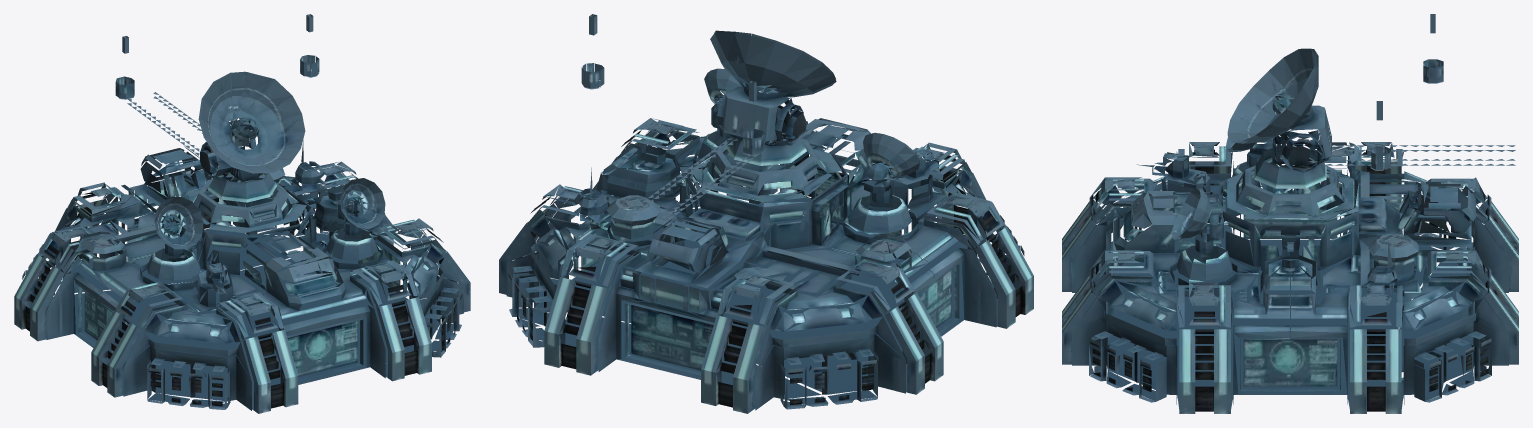
File: orbital_station_LOD2.glb
3 renders of one model, left to right at view 1: azimuth 30°, elevation 25°; view 2: azimuth 150°, elevation 25°; view 3: azimuth 270°, elevation 25°, orthographic. The views are drawn at different scales.
Parts seen in each view (by area): view 1: orbital_station_LOD2; view 2: orbital_station_LOD2; view 3: orbital_station_LOD2.
Boxes of the visible parts, x1=… form: orbital_station_LOD2: x1=14, y1=14, x2=470, y2=413; orbital_station_LOD2: x1=499, y1=14, x2=1033, y2=413; orbital_station_LOD2: x1=1062, y1=14, x2=1518, y2=413.
Bounding box in the file's own units: 0.9993 × 0.6688 × 0.9993.
Materials: 1 (1 with a texture image).
